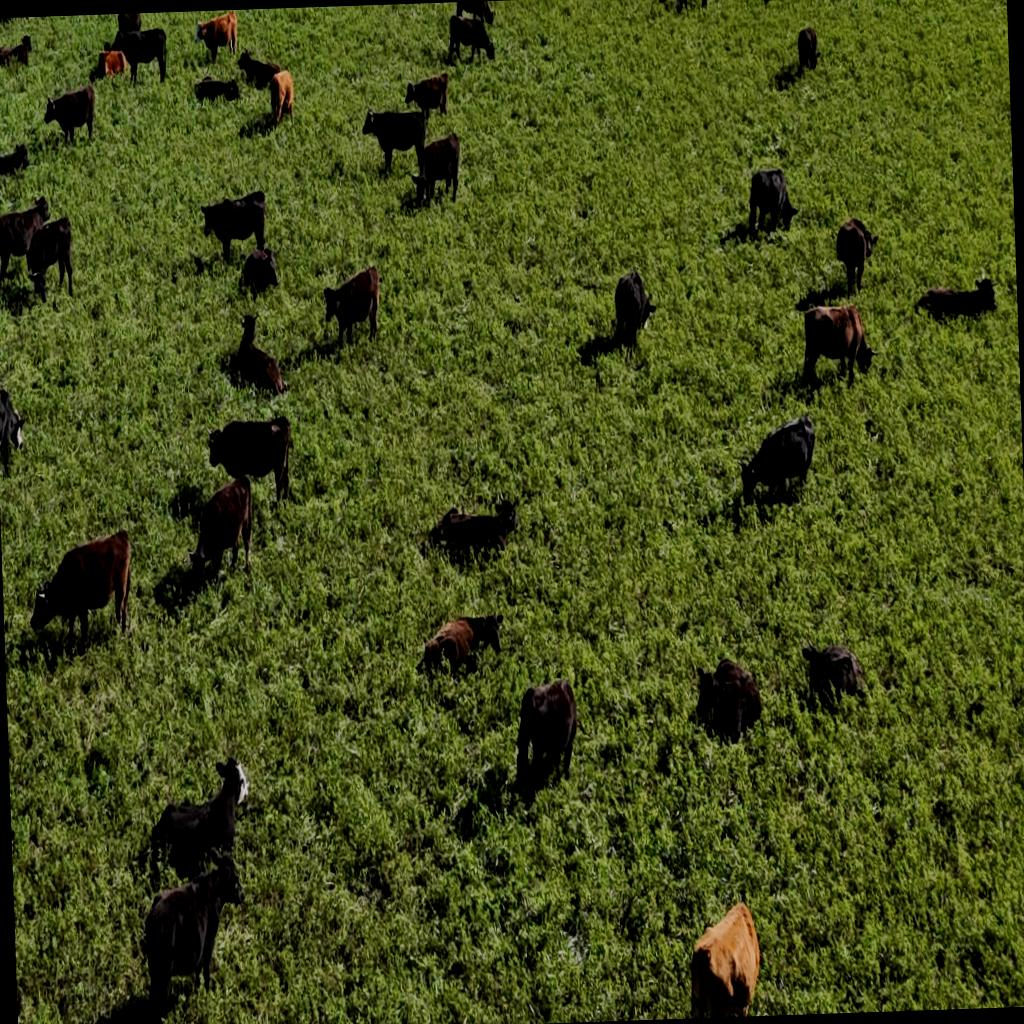cow: (138, 850, 248, 1024), (144, 756, 254, 889), (27, 529, 132, 655), (685, 899, 762, 1016), (184, 472, 256, 592), (512, 678, 580, 796), (206, 414, 293, 506), (739, 409, 819, 508), (799, 302, 874, 388), (694, 654, 764, 746), (422, 612, 507, 682), (437, 499, 517, 566), (198, 190, 268, 264), (800, 638, 868, 714), (230, 314, 288, 400), (328, 266, 385, 352), (0, 196, 53, 281), (22, 216, 74, 302), (364, 108, 429, 176), (612, 268, 659, 361), (915, 276, 996, 323), (410, 132, 460, 208), (834, 217, 880, 297), (747, 164, 798, 235), (44, 84, 96, 146), (116, 26, 166, 86), (267, 416, 295, 504), (447, 12, 495, 63), (0, 382, 26, 475), (195, 10, 239, 64), (405, 72, 450, 118), (242, 245, 279, 296), (238, 48, 282, 90), (270, 68, 294, 130), (193, 75, 239, 105), (0, 142, 31, 181), (0, 33, 32, 69), (797, 26, 820, 74), (116, 12, 141, 34)
